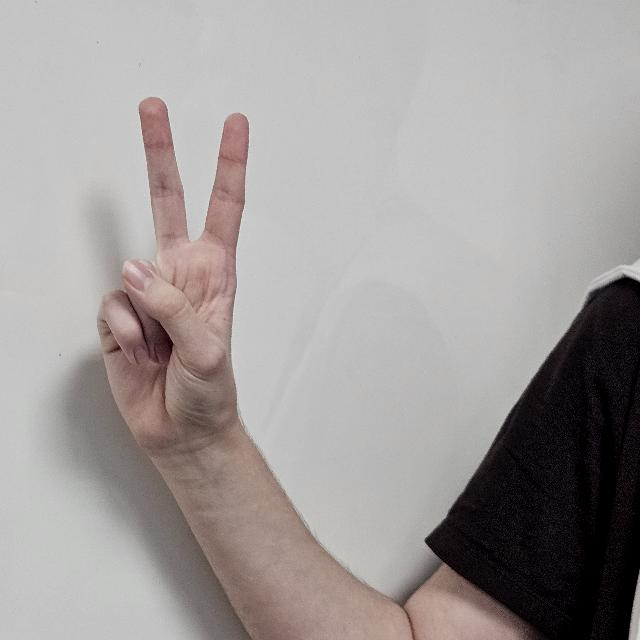Triangulo: (80, 94, 264, 500)
